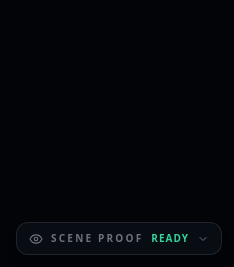
CockpitSceneProofPanel › expands to show detailed proof rows when toggled
# Toggle open
Click the button with test id "cockpit-proof-toggle" at (119, 238), box x1=17 y1=223 x2=221 y2=254
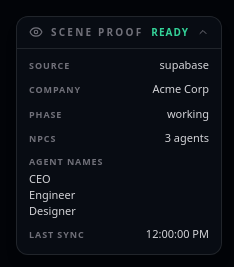
Now the element with test id "proof-source" is shown, box x1=29 y1=57 x2=209 y2=73
Now the element with test id "proof-company" is shown, box x1=29 y1=81 x2=209 y2=98
Now the element with test id "proof-phase" is shown, box x1=29 y1=106 x2=209 y2=122
